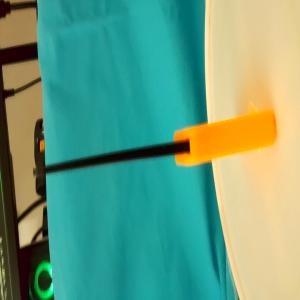serrote: (32, 108, 276, 178)
